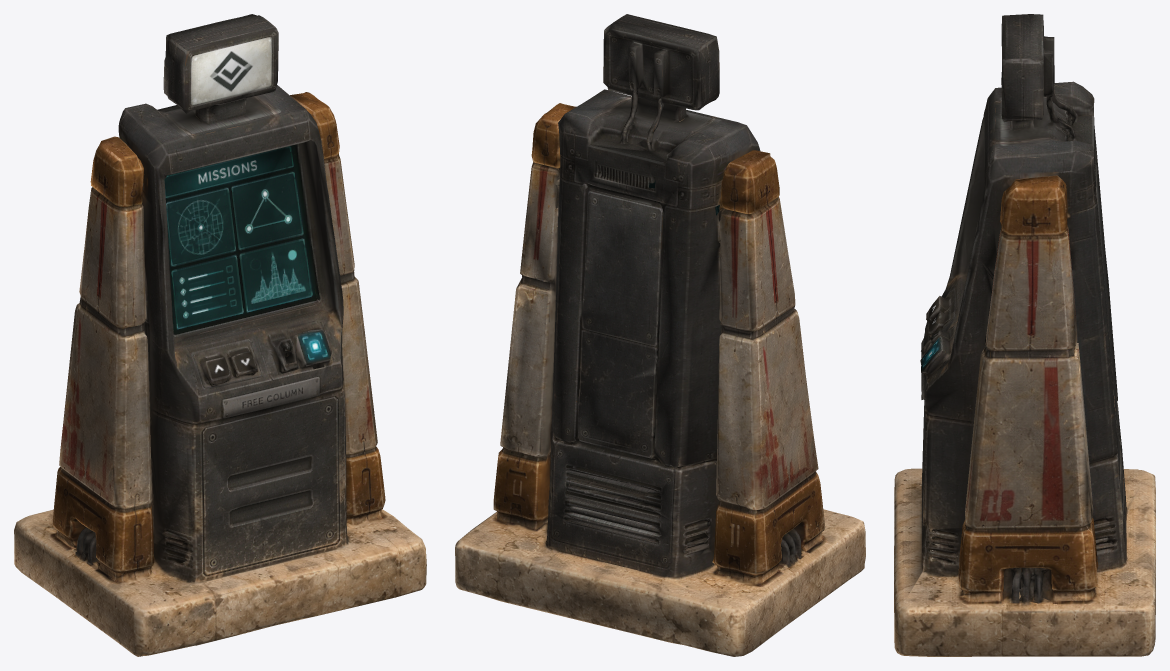
The model's file is mission-terminal.glb.
The picture shows the model from 3 angles, left to right: view 1: azimuth 30°, elevation 25°; view 2: azimuth 150°, elevation 25°; view 3: azimuth 270°, elevation 25°; orthographic projection.
Visible parts, largest first — view 1: Mesh_0; view 2: Mesh_0; view 3: Mesh_0.
Part boxes in pixels (box(x1,y1,x2,y2)): Mesh_0: box(14, 14, 426, 656); Mesh_0: box(455, 14, 865, 656); Mesh_0: box(894, 14, 1155, 656).
Size of the model in its own units: 0.8916 by 1.6 by 0.6886.
1 material, 1 textured.
